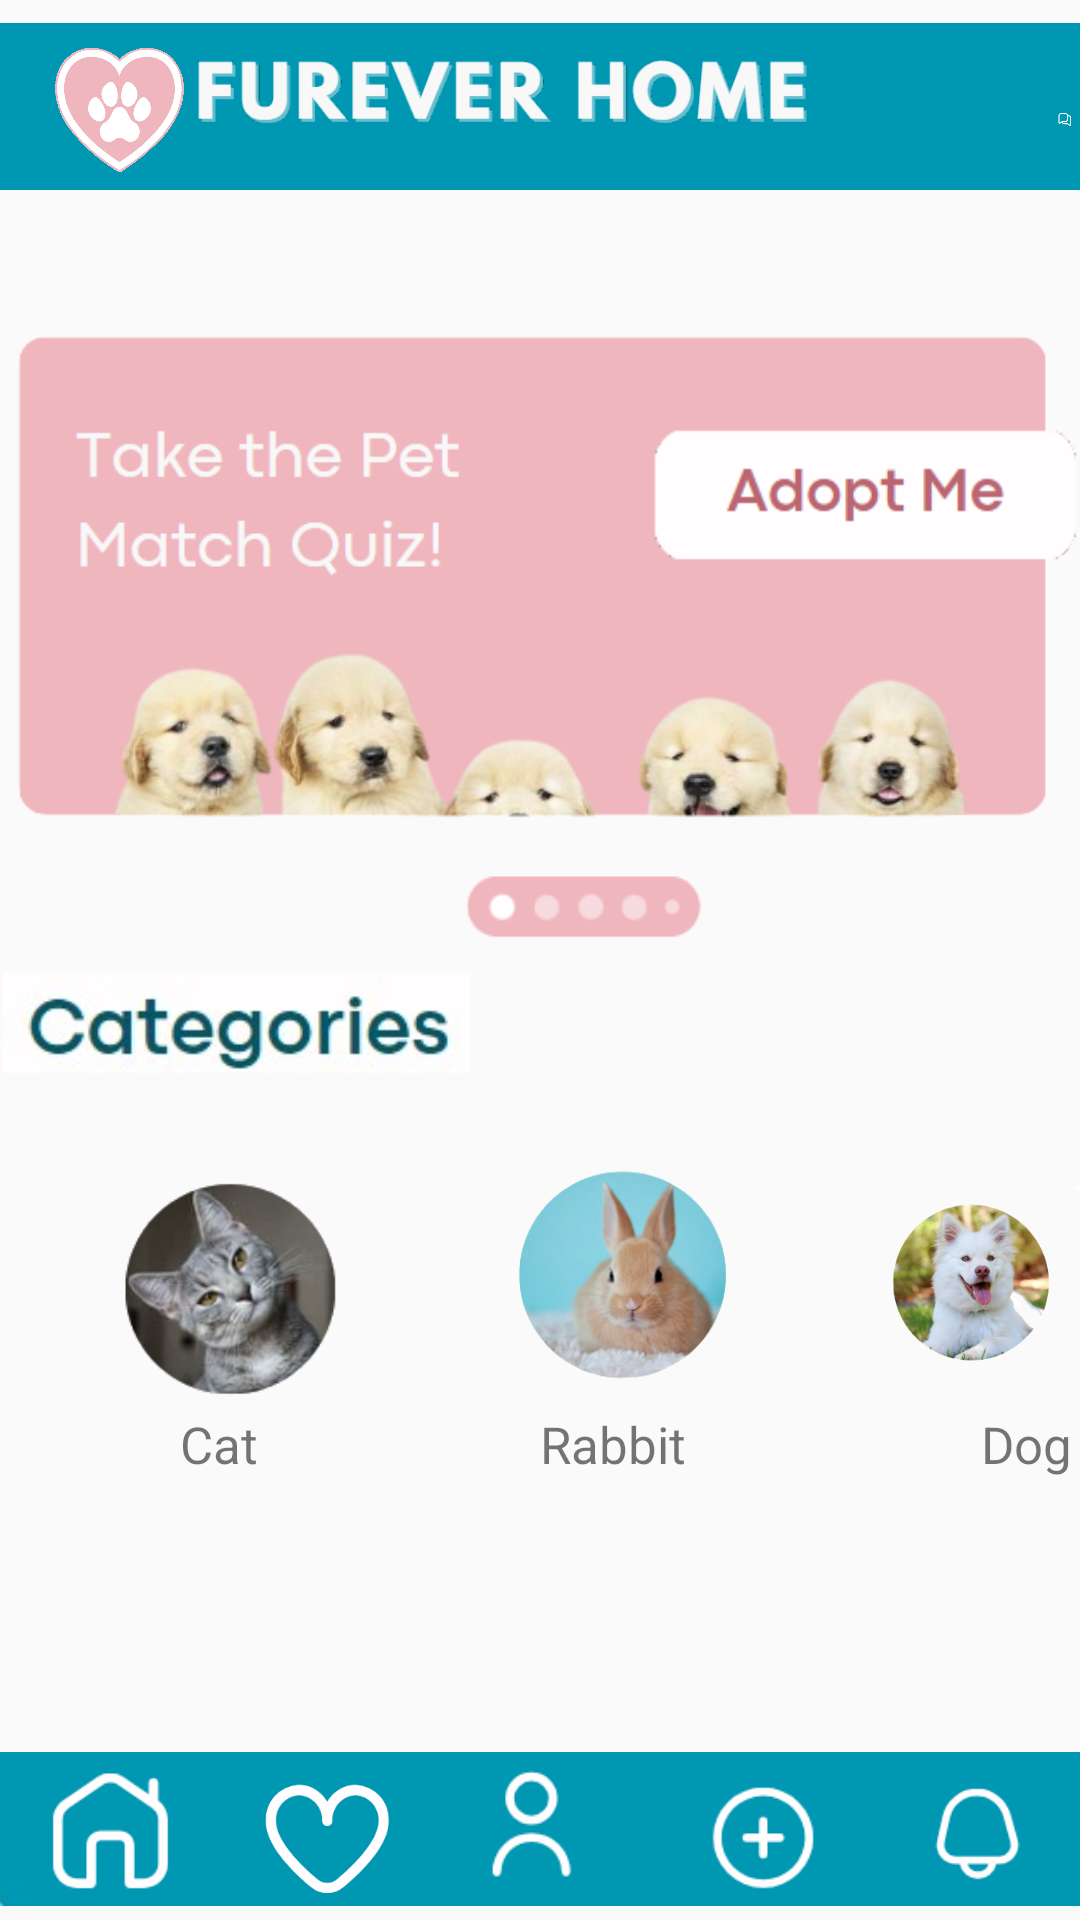

Point at icon controls on the screen. Image size 1080 × 1920, points as point (x, y).
add: point (756, 1830)
heart: point (324, 1830)
home: point (108, 1829)
notification: point (972, 1829)
profile: point (540, 1830)
